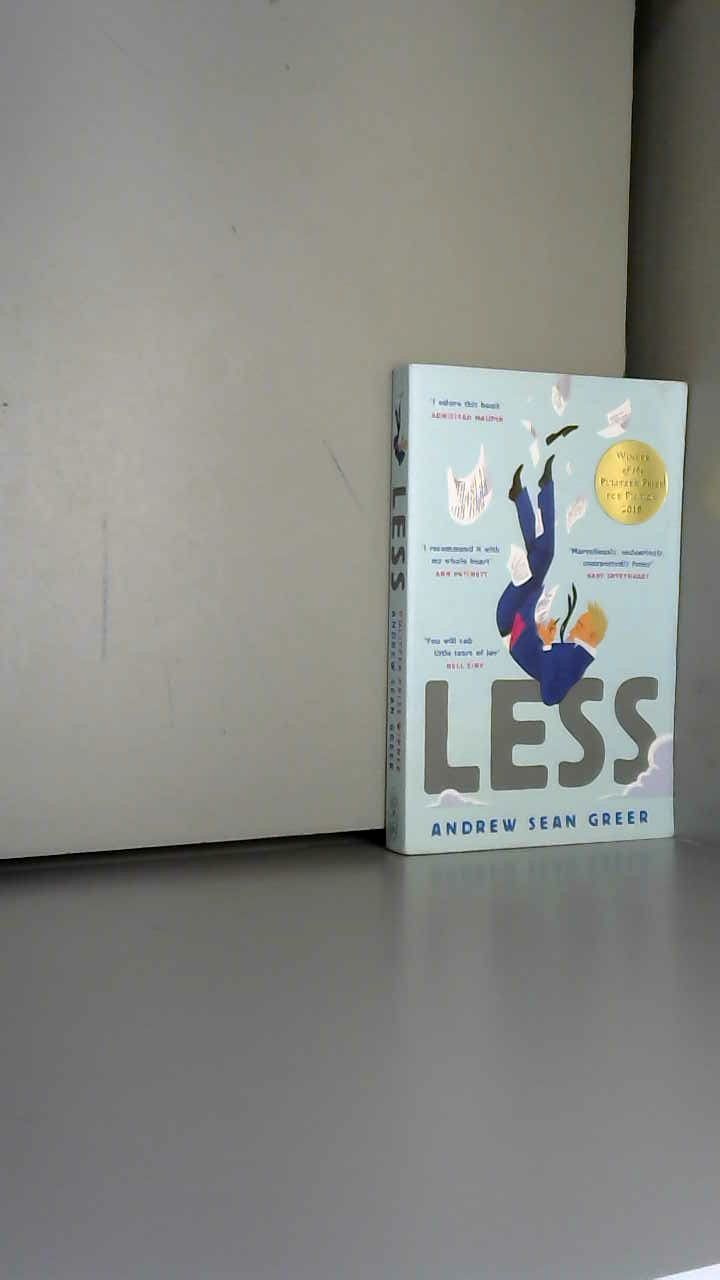book: (360, 330, 720, 907)
